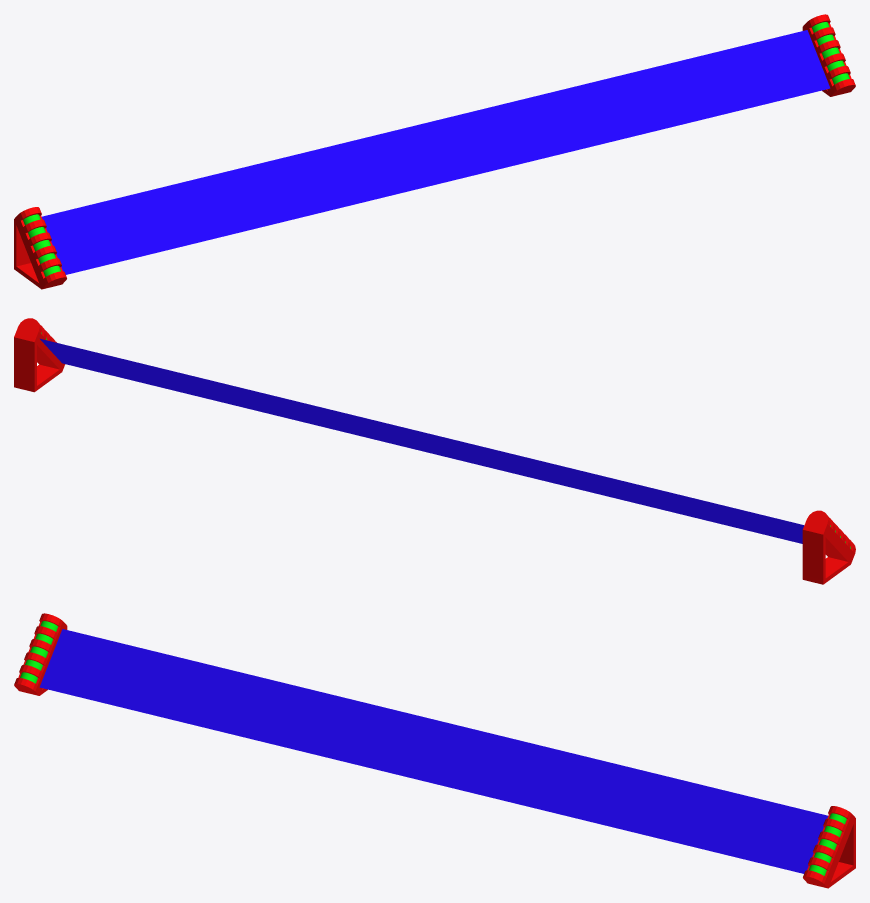
Rendered from SM_CurrentSong.FBX.
3 renders of one model, top to bottom at view 1: azimuth 30°, elevation 25°; view 2: azimuth 150°, elevation 25°; view 3: azimuth 330°, elevation 25°, orthographic.
Visible parts, largest first — view 1: Object015; view 2: Object015; view 3: Object015.
Boxes of the visible parts, x1,y1,x2,y2 form: Object015: [14, 14, 855, 289]; Object015: [14, 318, 855, 584]; Object015: [14, 613, 855, 888].
Bounding box in the file's own units: 287 × 22.18 × 22.18.
